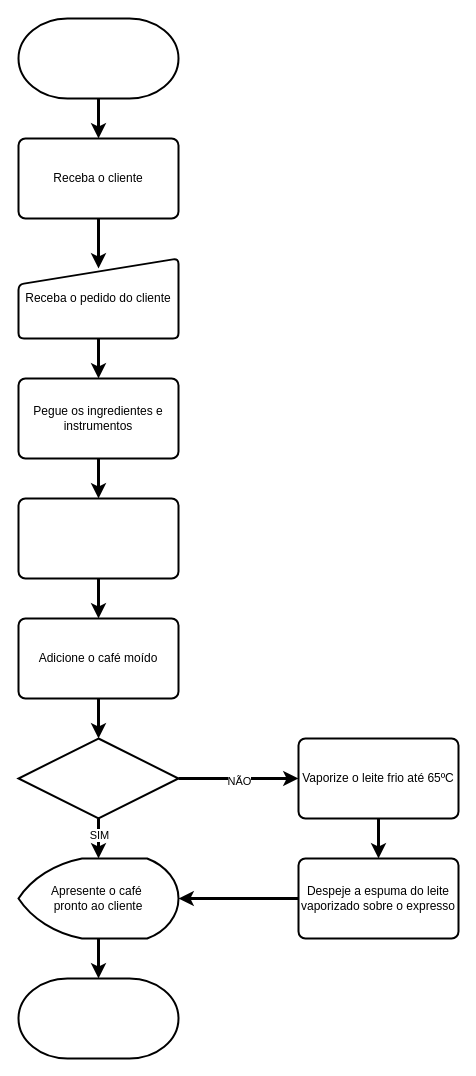
Image size: 476x1076. Some labels were removed from this diagram. Here are the shapes that lost their labels. From the top down, the centre of each, then its label:
At pixel 98 58: "Inicio".
At pixel 98 538: "Aqueça a água entre 90-100ºC".
At pixel 98 778: "O cliente pediu Expresso?".
At pixel 98 1018: "Término".
